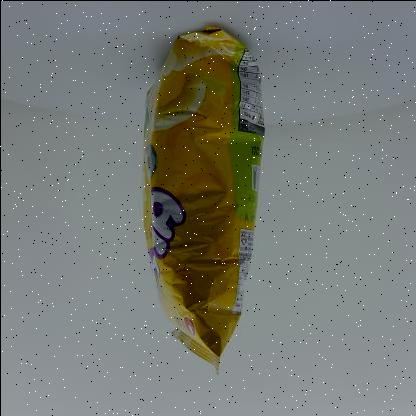Others: (125, 17, 273, 379)
